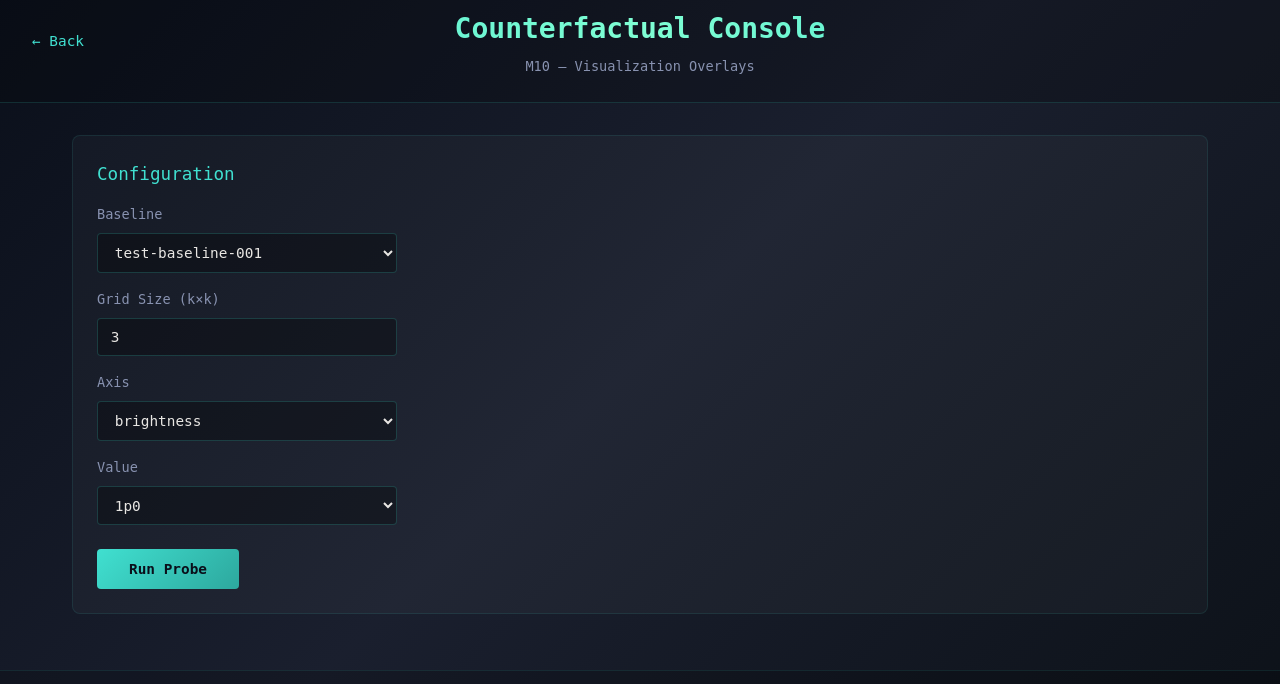
Test: CounterfactualConsole › displays all delta styling classes (positive, negative, zero)
The width and height of the screenshot is (1280, 684).
Click the button "Run Probe": click(168, 569) [97,549,239,589]
(page scrolled)
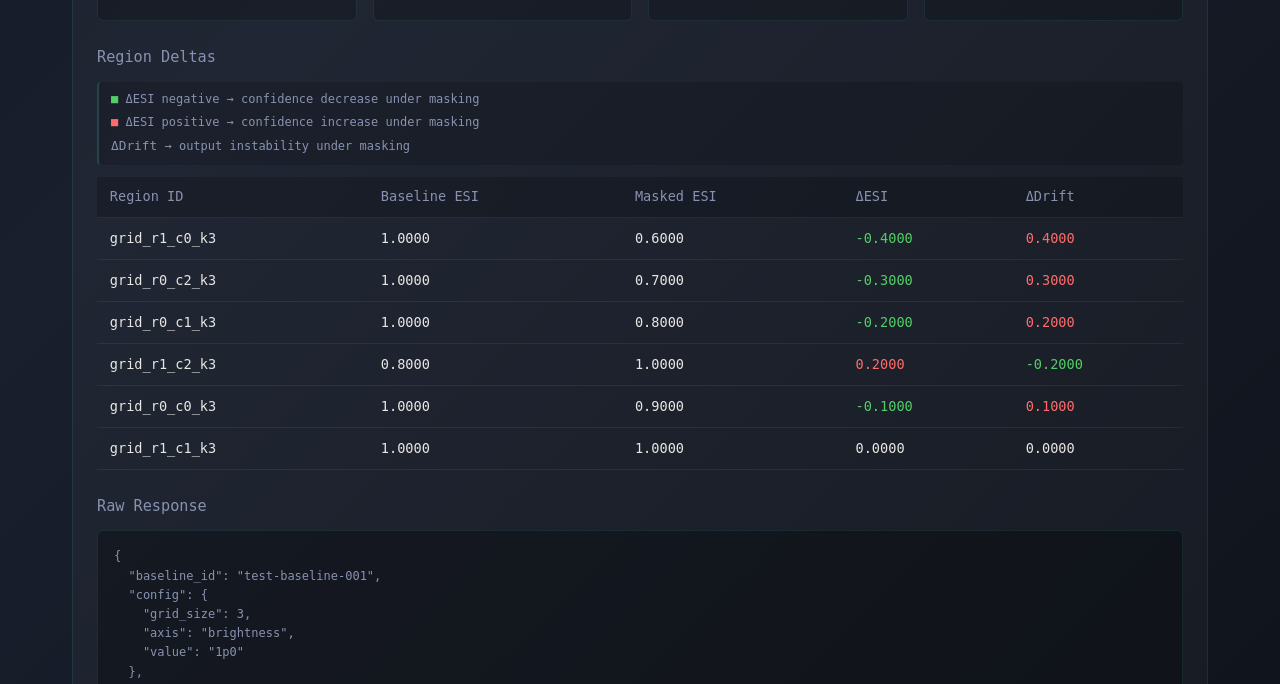
Result: the text "grid_r1_c1_k3" is shown at [97,428,368,470]
Result: the text "grid_r1_c2_k3" is shown at [97,344,368,386]
Result: the text "grid_r0_c0_k3" is shown at [97,386,368,428]
